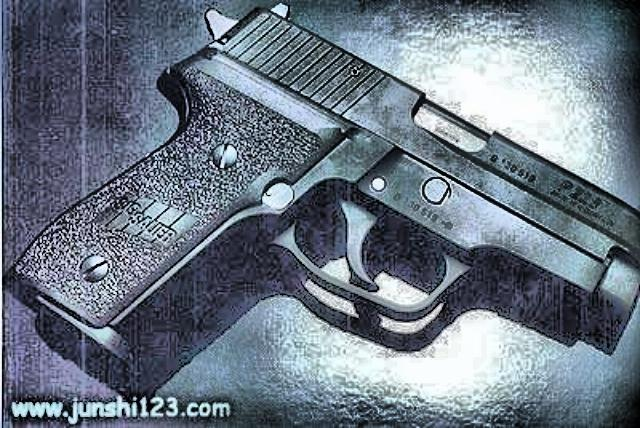pistol: (2, 2, 638, 364)
